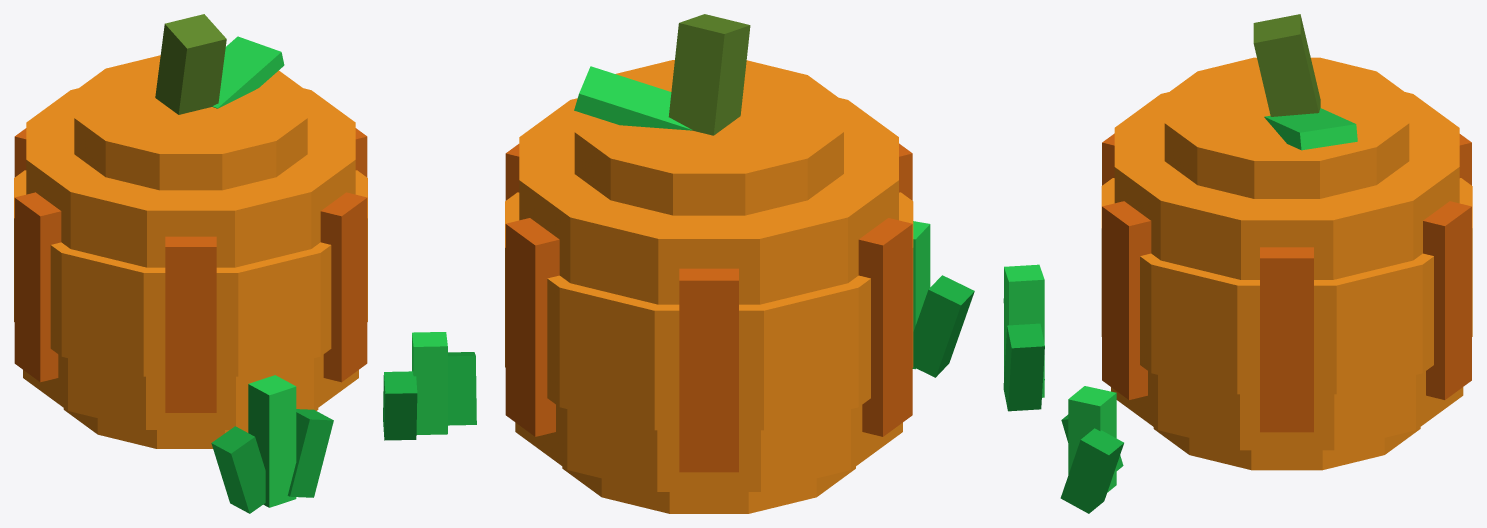
The model's file is Pumpkin.fbx.
The picture shows the model from 3 angles, left to right: view 1: azimuth 30°, elevation 25°; view 2: azimuth 150°, elevation 25°; view 3: azimuth 270°, elevation 25°; orthographic projection. The views are drawn at different scales.
Parts seen in each view (by area): view 1: Pumpkin.003, PumpkinDark, Grass.016, GrassDark.016, Stem; view 2: Pumpkin.003, PumpkinDark, Stem, Grass.016, GrassDark.016; view 3: Pumpkin.003, PumpkinDark, Grass.016, GrassDark.016, Stem.
Boxes of the visible parts, x1,y1,x2,y2 form: Pumpkin.003: (14,55,367,448); PumpkinDark: (14,128,367,412); Grass.016: (212,36,447,507); GrassDark.016: (211,352,476,513); Stem: (155,14,226,114); Pumpkin.003: (505,60,913,513); PumpkinDark: (505,143,912,472); Stem: (668,14,750,135); Grass.016: (574,66,930,369); GrassDark.016: (913,275,974,377); Pumpkin.003: (1101,57,1472,470); PumpkinDark: (1102,133,1471,432); Grass.016: (1004,108,1357,492); GrassDark.016: (1003,298,1123,513); Stem: (1253,14,1320,116).
Bounding box in the file's own units: 3.65 × 3.61 × 3.91.
